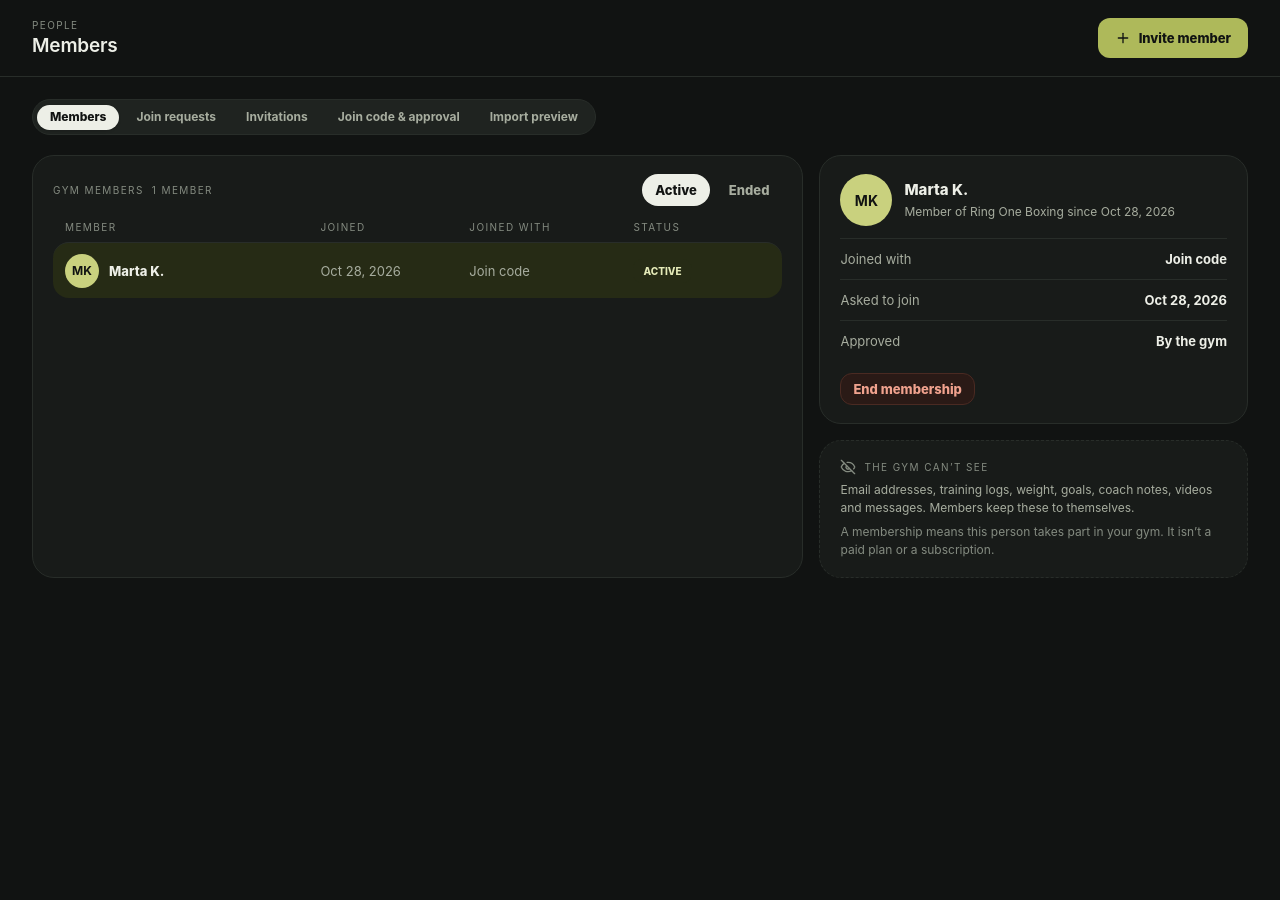
Scenario: GymMembers (WG3, SF-96) › ends a membership only after a confirmation that spares the account, profiles and other gyms
Click the button "End membership" at [908, 389], box x1=840 y1=373 x2=975 y2=405
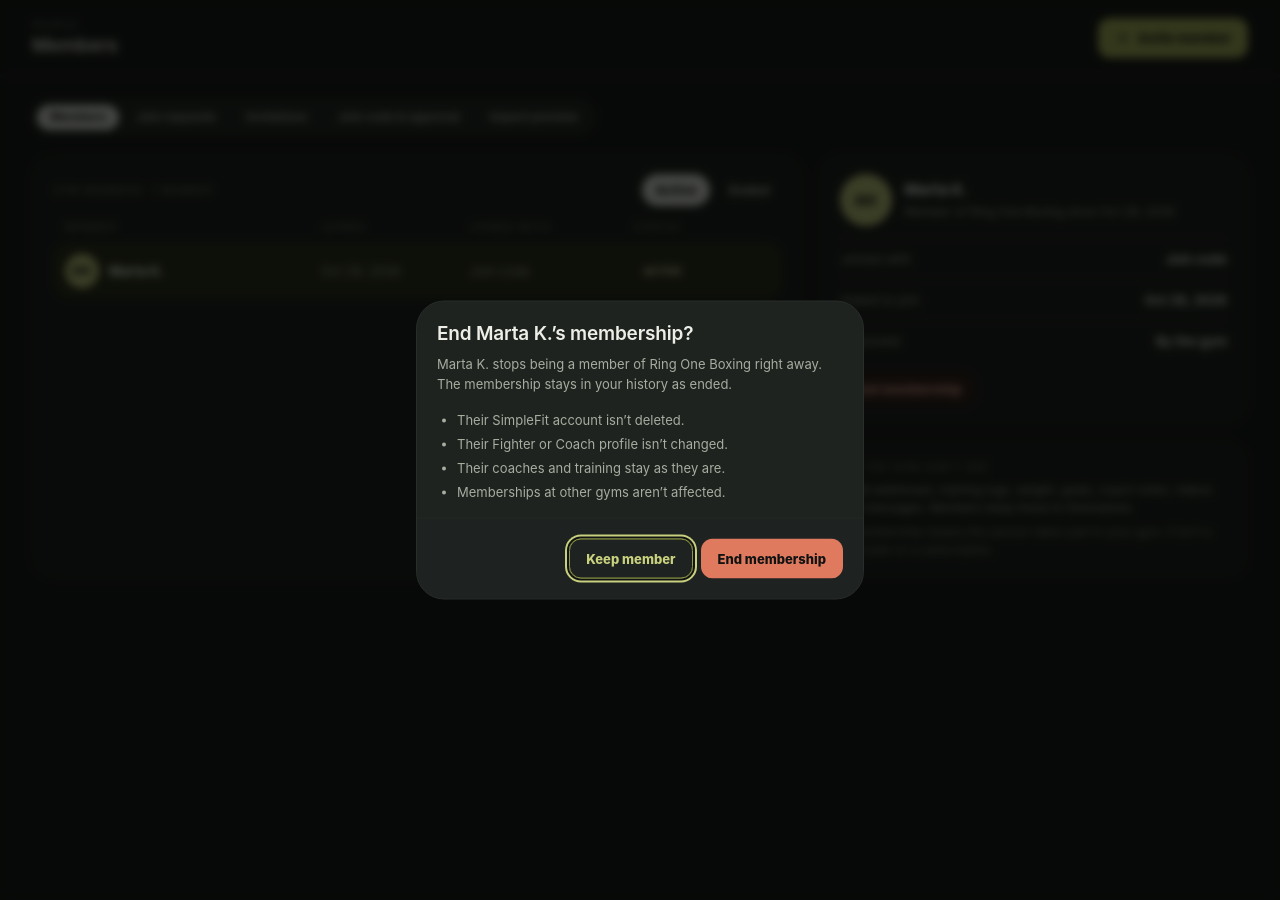
Now the list item "Their SimpleFit account isn’t deleted." is shown, box x1=457 y1=412 x2=684 y2=428
Now the list item "Their Fighter or Coach profile isn’t changed." is shown, box x1=457 y1=436 x2=728 y2=452
Now the list item "Their coaches and training stay as they are." is shown, box x1=457 y1=460 x2=725 y2=476
Click the button "End membership" at [772, 558], box x1=700 y1=538 x2=843 y2=578
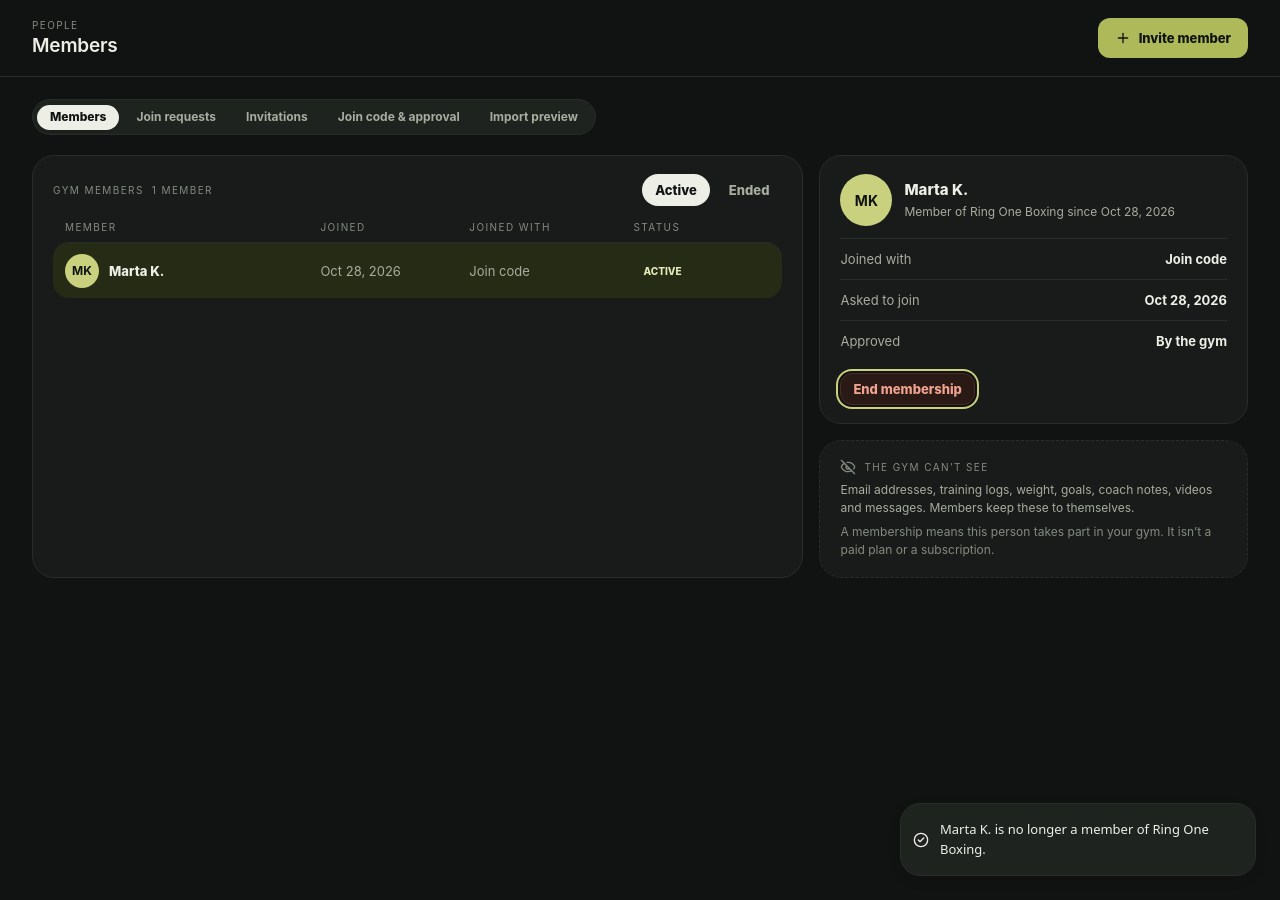
Now the text "Marta K. is no longer a member of Ring One Boxing." is shown, box x1=940 y1=820 x2=1239 y2=859
